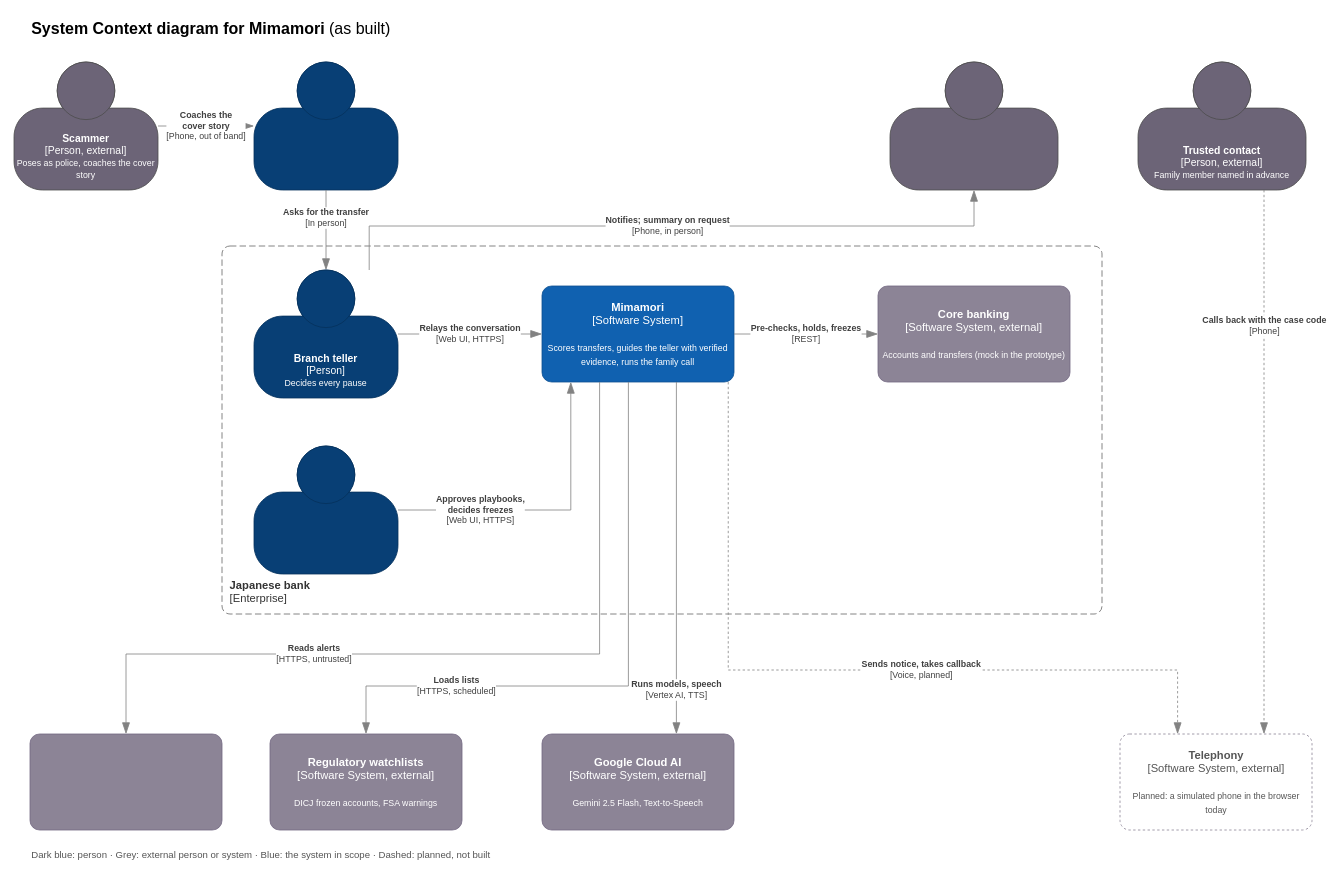
This 1340x878 diagram has some shape labels left out. Each missing label, with the centre of its shape:
"Customer [Person] Makes a counter transfer" goes at point (325, 125).
"Fraud analyst [Person] Approves playbooks, decides freezes" goes at point (325, 509).
"Police [Person, external] Real police, notified by the branch" goes at point (973, 125).
"Public scam alerts [Software System, external] NPA, prefectural police" goes at point (125, 781).
